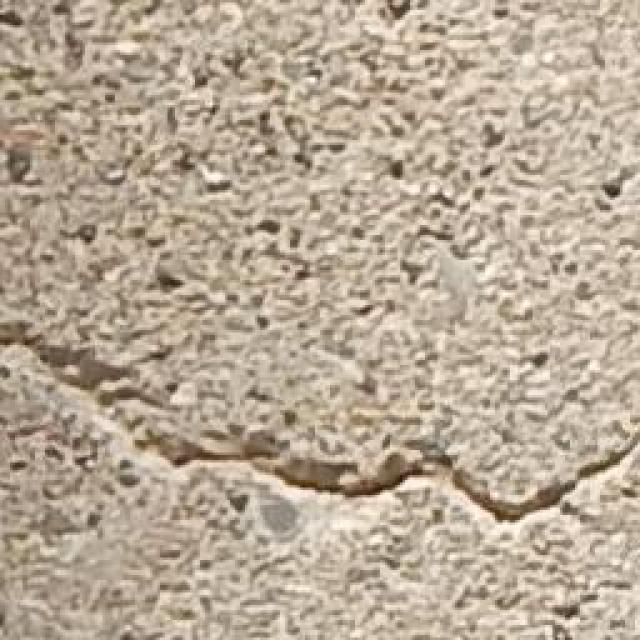concrete-crack: (0, 309, 640, 534)
